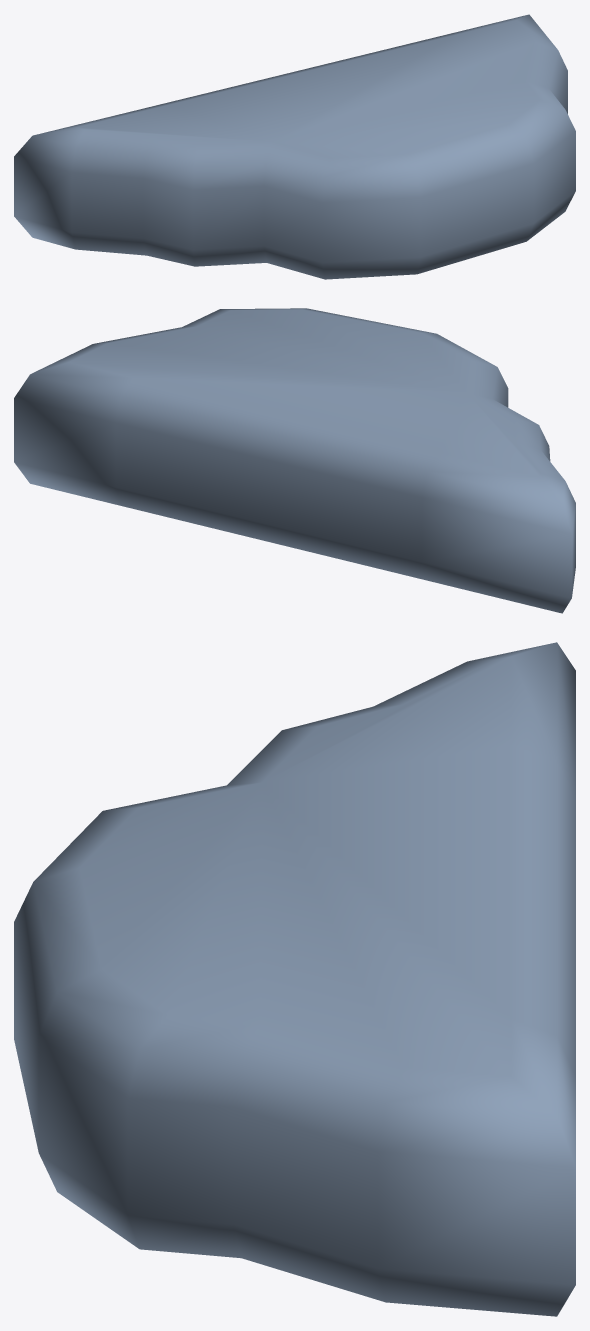
The model's file is ruins-debris-1.fbx.
The picture shows the model from 3 angles, top to bottom: view 1: azimuth 30°, elevation 25°; view 2: azimuth 150°, elevation 25°; view 3: azimuth 270°, elevation 25°; orthographic projection. The views are drawn at different scales.
Parts seen in each view (by area): view 1: Grid; view 2: Grid; view 3: Grid.
Part boxes in pixels (x1=…): Grid: x1=14, y1=14, x2=575, y2=279; Grid: x1=14, y1=308, x2=575, y2=613; Grid: x1=14, y1=642, x2=575, y2=1316.
Size of the model in its own units: 137 by 30 by 65.29.
